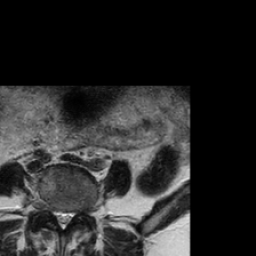CCS_normal: (59, 201, 66, 236)
LFS_severe_stenosis: (74, 198, 83, 225)
LLS_stenosis: (66, 202, 75, 228)
RFS_stenosis: (42, 193, 50, 222)
RLS_stenosis: (50, 197, 59, 228)
